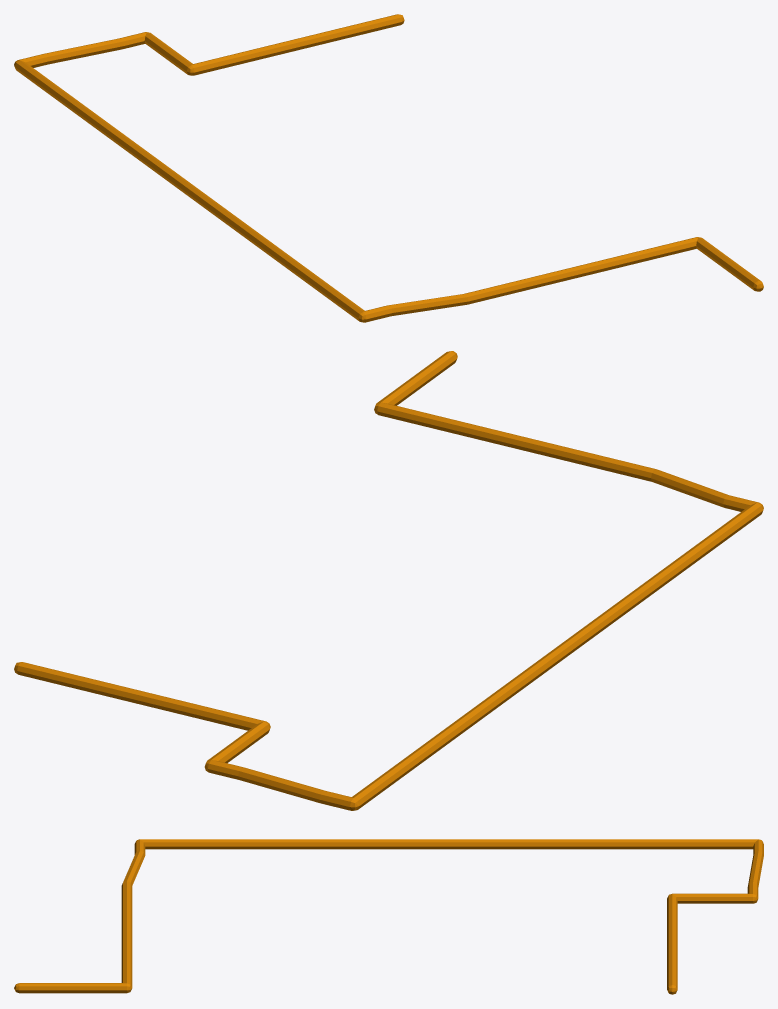
3 renders of one model, top to bottom at view 1: azimuth 30°, elevation 25°; view 2: azimuth 150°, elevation 25°; view 3: azimuth 270°, elevation 25°, orthographic. The views are drawn at different scales.
Bounding box in the file's own units: 660 × 20 × 1394.
